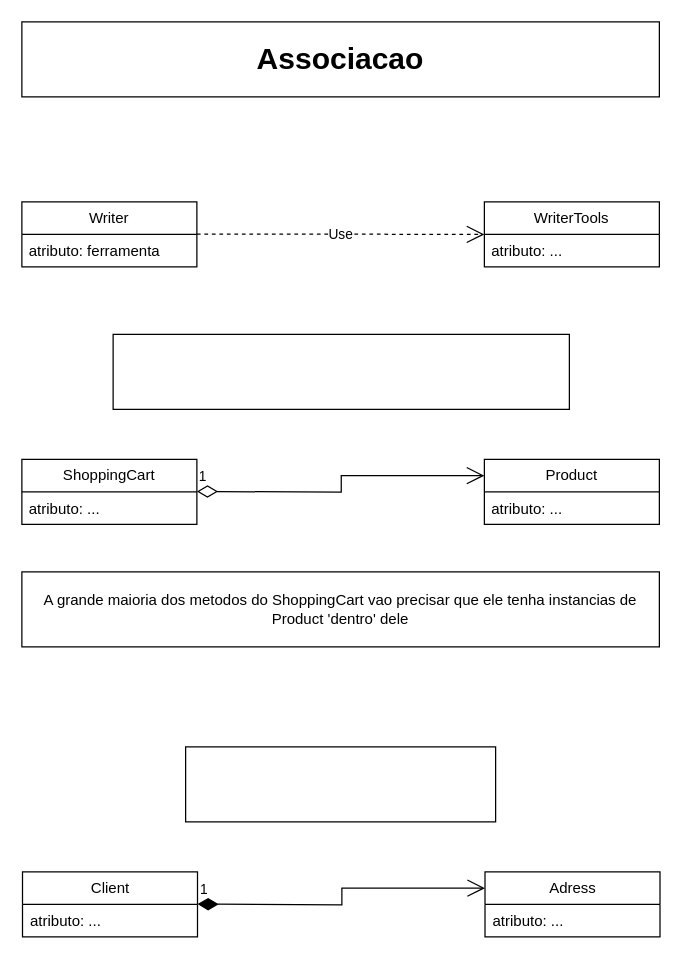
This 683x963 diagram has some shape labels left out. Here are the shapes that lost their labels. From the top down, the centre of each, then its label:
At (x=340, y=371): "Agregacao".
At (x=340, y=784): "Composicao".
